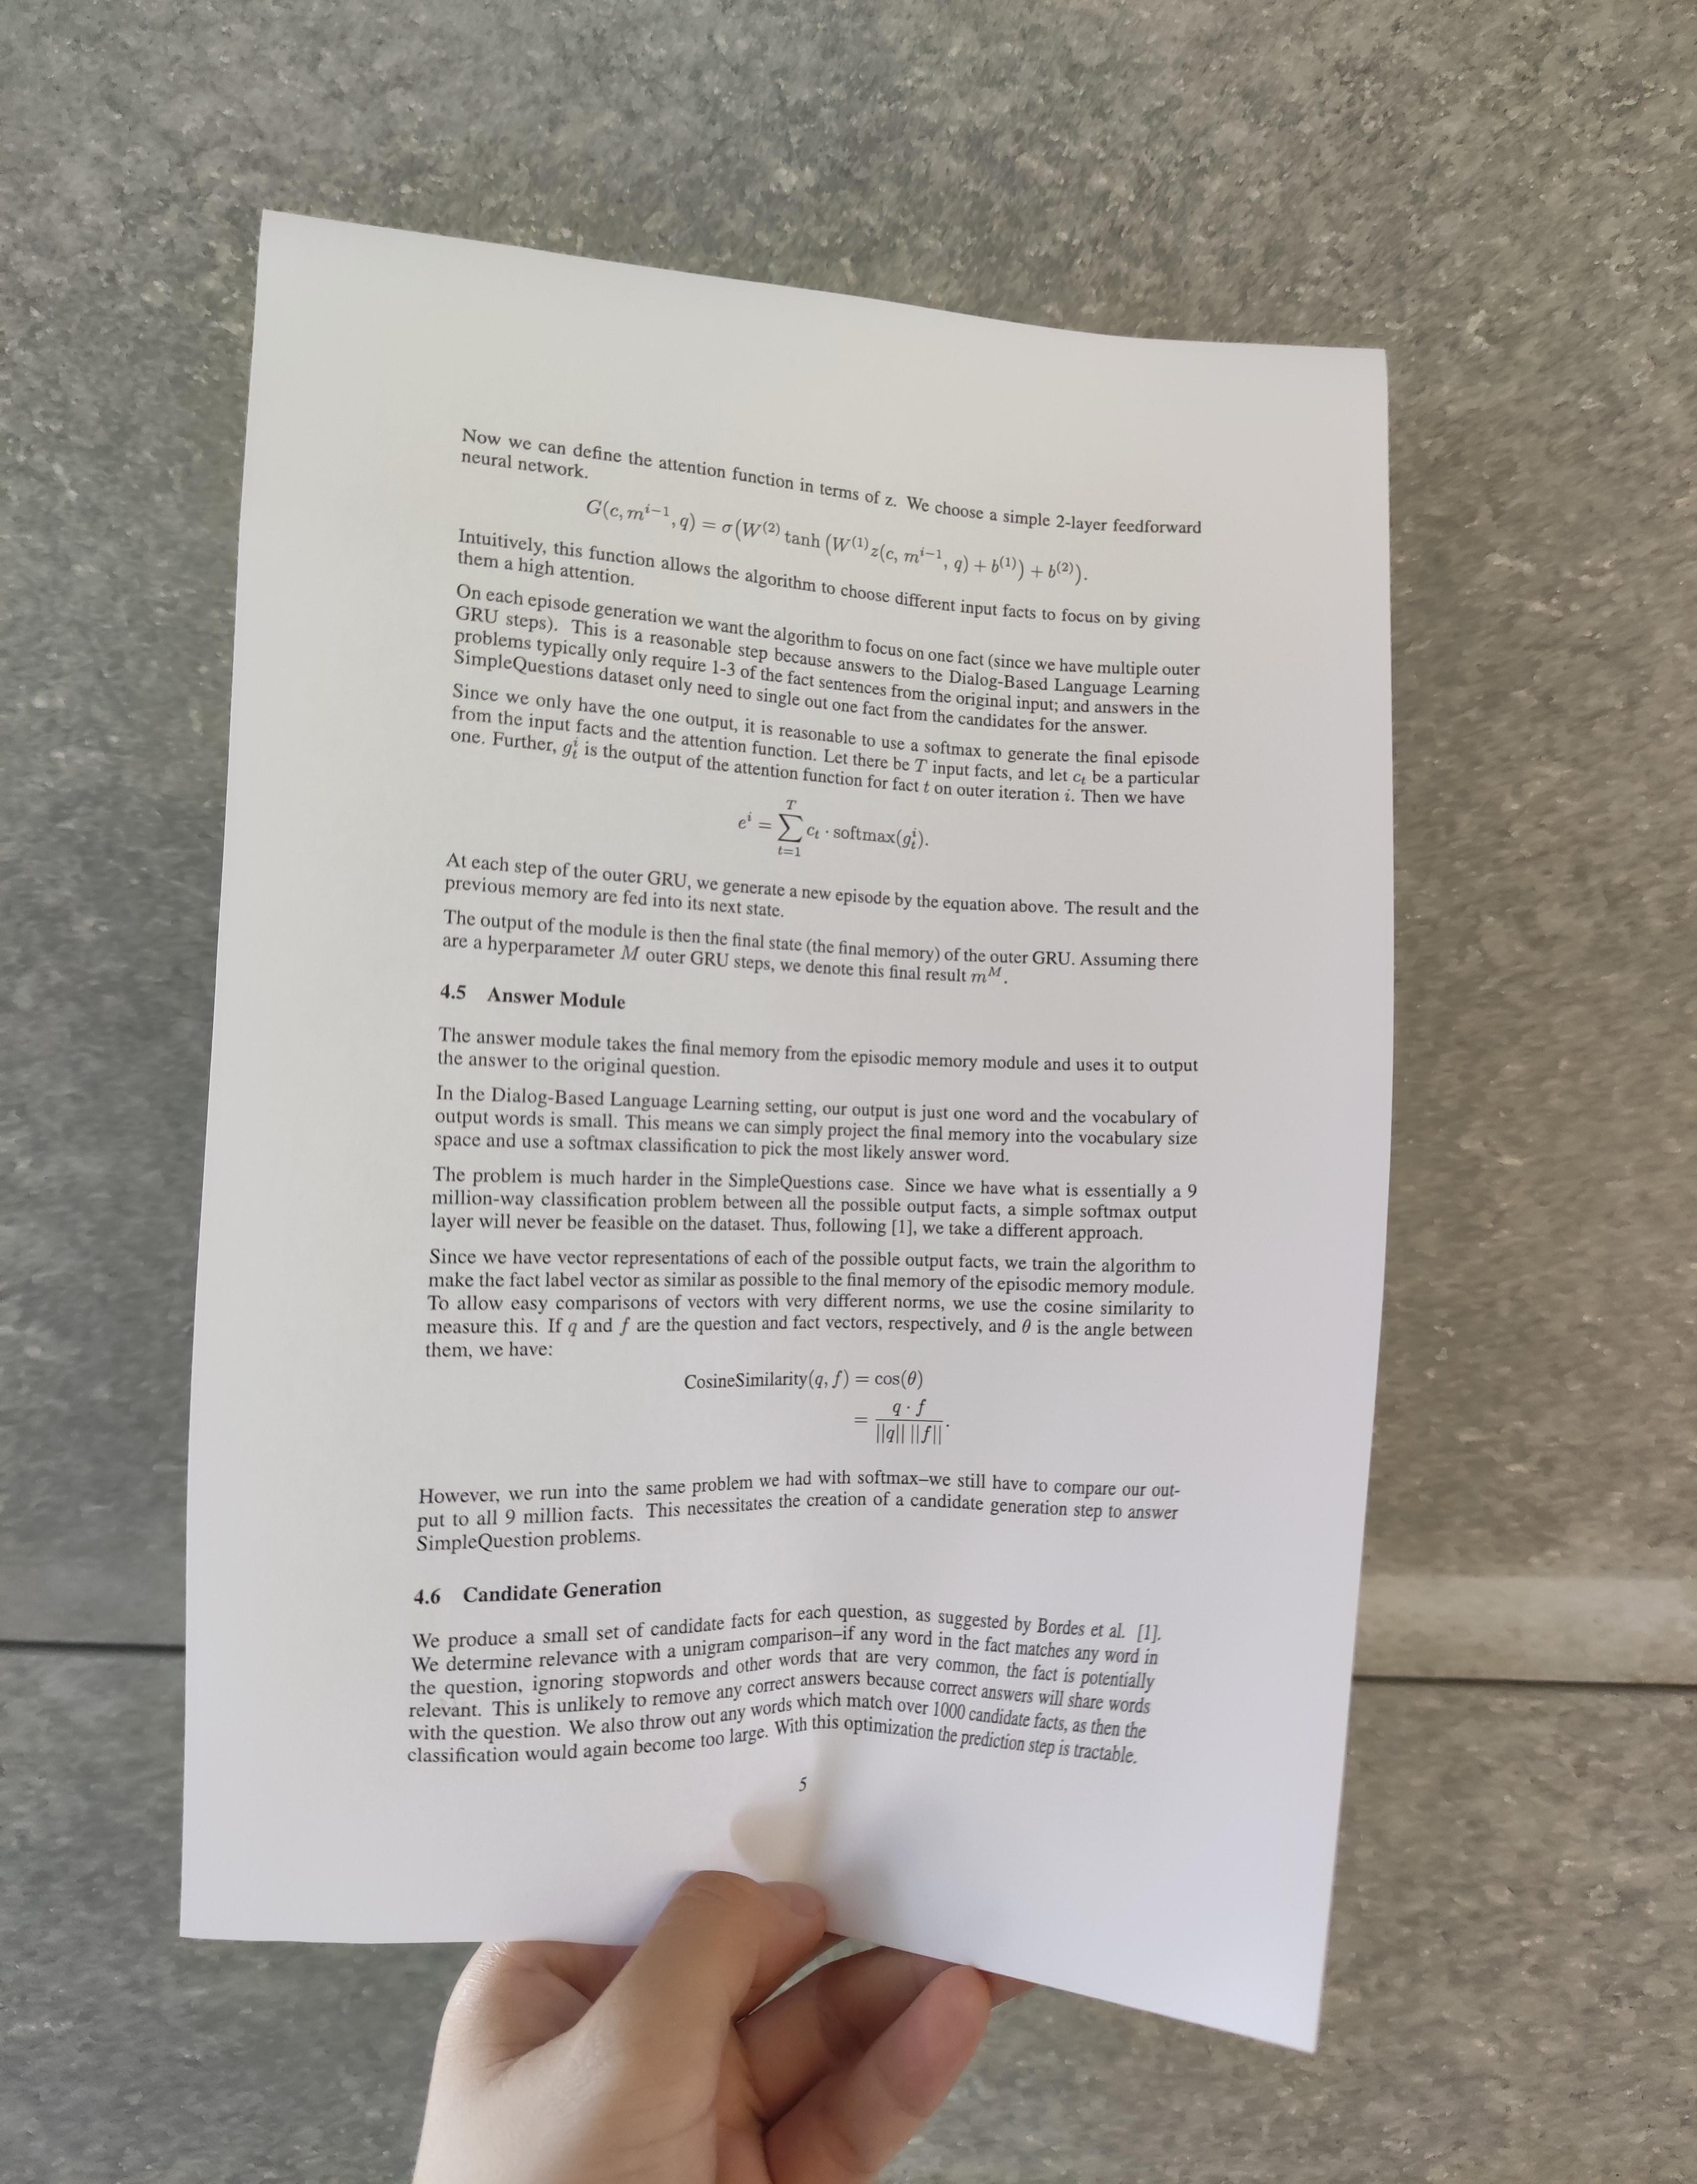paper: (88, 73, 1697, 2184)
